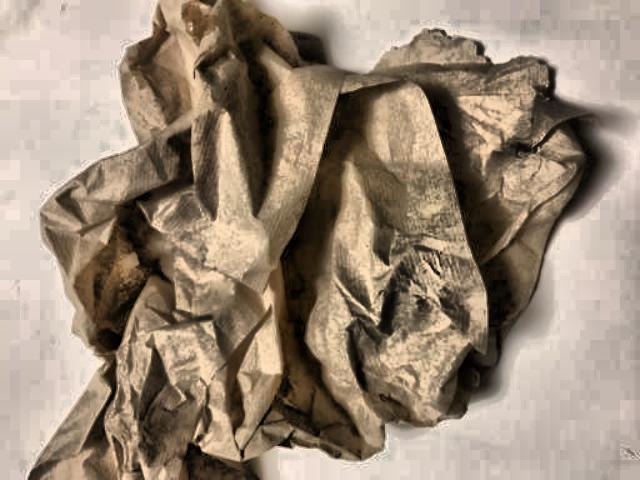Paper: (1, 7, 622, 476)
